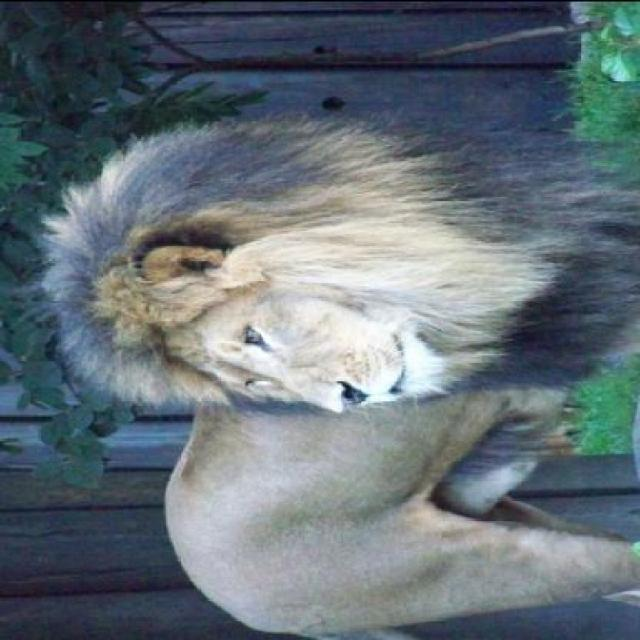Lion: (17, 75, 638, 634)
